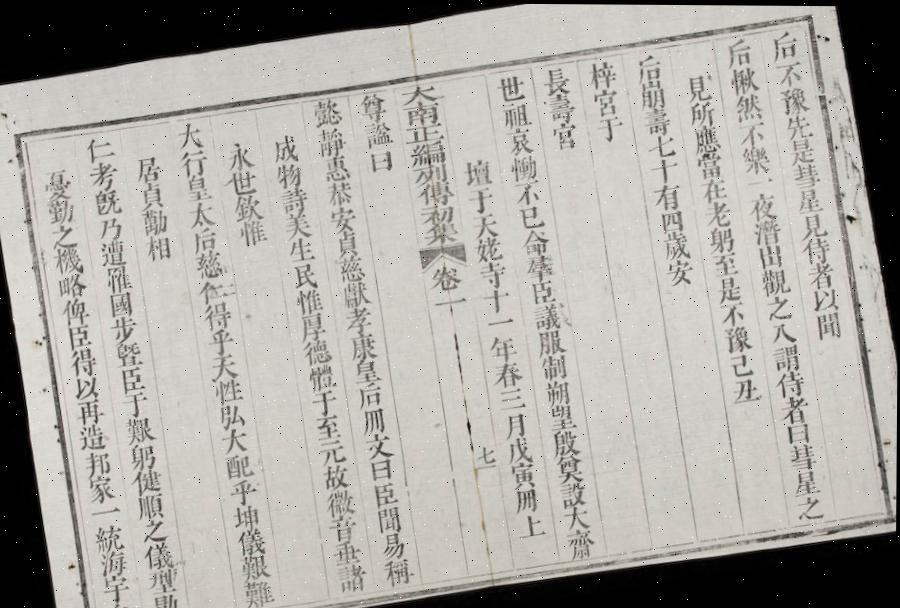c: (38, 164, 76, 202), (427, 260, 467, 294), (738, 141, 775, 176), (332, 560, 370, 594), (312, 124, 350, 158), (582, 56, 620, 90), (308, 94, 346, 128), (406, 139, 448, 169), (766, 26, 802, 61), (460, 154, 496, 189), (562, 526, 600, 559), (542, 91, 580, 124), (198, 298, 236, 331), (170, 118, 208, 151), (239, 577, 279, 608), (400, 100, 444, 128), (414, 178, 455, 208), (722, 34, 758, 68), (551, 451, 588, 484), (279, 208, 316, 241), (83, 472, 120, 505), (49, 244, 87, 276), (120, 414, 158, 446), (744, 188, 782, 220), (140, 538, 178, 570), (90, 520, 128, 552), (322, 486, 360, 518), (84, 158, 122, 190), (222, 138, 257, 172), (631, 50, 666, 84), (720, 321, 756, 354), (658, 228, 694, 261), (811, 307, 847, 340), (493, 70, 529, 103), (757, 264, 794, 296), (547, 426, 584, 458), (490, 358, 527, 390), (775, 82, 812, 114), (725, 63, 762, 95), (191, 248, 228, 280), (359, 118, 396, 150), (792, 491, 830, 522), (80, 133, 118, 164), (528, 300, 566, 331), (174, 146, 212, 177), (236, 551, 274, 582), (420, 219, 462, 247), (539, 63, 574, 96), (635, 77, 670, 110), (180, 172, 216, 204), (804, 258, 840, 290), (66, 344, 102, 376), (688, 122, 724, 154), (498, 99, 534, 131), (650, 180, 686, 212), (230, 191, 266, 223), (74, 420, 110, 452), (592, 112, 628, 144), (730, 90, 766, 122), (184, 198, 220, 230), (345, 330, 381, 362), (234, 524, 270, 556), (486, 330, 522, 362), (588, 86, 624, 118), (234, 216, 270, 248), (380, 555, 416, 587), (662, 256, 698, 288), (206, 350, 242, 382), (105, 312, 142, 343), (57, 294, 94, 325), (536, 351, 573, 382), (554, 478, 592, 508), (128, 466, 166, 496), (268, 130, 302, 163), (786, 438, 821, 470), (98, 571, 133, 603), (704, 222, 739, 254), (95, 236, 130, 268), (319, 152, 354, 184), (640, 104, 675, 136), (101, 262, 136, 294), (681, 70, 716, 102), (110, 338, 146, 369), (768, 340, 804, 371), (772, 366, 808, 397), (544, 401, 580, 432), (514, 510, 550, 541), (338, 278, 374, 309), (276, 184, 312, 215), (304, 361, 340, 392), (692, 149, 728, 180), (133, 491, 169, 522), (126, 440, 162, 471), (517, 225, 553, 256), (80, 446, 116, 477), (776, 392, 813, 422), (784, 134, 821, 164), (548, 120, 582, 152), (356, 90, 390, 122), (90, 185, 124, 217), (131, 152, 165, 184), (311, 413, 346, 444), (141, 232, 176, 263), (789, 465, 824, 496), (115, 364, 150, 395), (292, 285, 327, 316), (476, 258, 511, 289), (540, 376, 575, 407), (506, 152, 541, 183), (728, 374, 764, 404), (760, 292, 796, 322), (525, 276, 561, 306), (770, 57, 806, 87), (326, 512, 362, 542), (647, 154, 683, 184), (217, 425, 253, 455), (700, 198, 736, 228), (534, 326, 570, 356), (222, 450, 258, 480), (300, 336, 336, 366), (210, 376, 246, 406), (43, 196, 79, 226), (54, 270, 90, 300), (341, 304, 377, 334), (522, 252, 558, 282), (318, 461, 354, 491), (798, 234, 834, 264), (418, 202, 459, 228), (144, 566, 182, 594), (713, 272, 746, 304), (402, 122, 446, 146), (376, 529, 410, 560), (296, 311, 330, 342), (362, 429, 396, 460), (796, 208, 830, 239), (781, 110, 816, 140), (349, 355, 384, 385), (398, 81, 440, 106), (502, 126, 537, 156), (749, 216, 784, 246), (72, 396, 107, 426), (46, 221, 82, 250), (330, 537, 366, 566), (788, 159, 824, 188), (224, 167, 260, 196), (412, 160, 452, 186), (327, 204, 360, 235), (204, 326, 238, 356), (560, 502, 594, 532), (468, 210, 502, 240), (272, 160, 306, 190), (138, 207, 172, 237), (226, 476, 260, 506), (308, 388, 342, 418), (372, 503, 406, 533), (323, 178, 357, 208), (479, 285, 514, 314), (95, 548, 131, 576), (503, 434, 536, 464), (135, 180, 168, 210), (289, 260, 322, 290), (465, 184, 498, 214), (330, 229, 363, 259), (230, 501, 264, 530), (510, 485, 544, 514), (62, 322, 96, 351), (316, 438, 350, 467), (685, 98, 719, 127), (472, 234, 506, 263), (515, 202, 549, 231), (354, 380, 388, 409), (735, 118, 770, 146), (495, 384, 530, 412), (117, 390, 152, 418), (196, 276, 231, 304), (370, 478, 402, 508), (508, 459, 540, 489), (500, 409, 532, 439), (358, 405, 390, 435), (793, 183, 826, 212), (104, 289, 137, 318), (70, 372, 104, 400), (644, 131, 678, 159), (697, 174, 731, 202), (188, 225, 222, 253), (708, 248, 742, 276), (431, 292, 470, 316), (726, 349, 758, 378), (809, 284, 842, 312), (335, 254, 368, 282), (138, 516, 171, 544), (365, 146, 398, 174), (716, 299, 750, 326), (754, 241, 788, 268), (286, 235, 318, 263), (216, 402, 248, 430), (512, 178, 544, 206), (94, 214, 126, 241), (656, 206, 688, 233), (766, 318, 799, 344), (782, 418, 816, 443), (367, 455, 398, 481), (483, 311, 518, 332), (88, 502, 124, 522), (148, 589, 184, 608), (742, 172, 777, 191), (474, 441, 500, 466), (104, 598, 140, 608)
